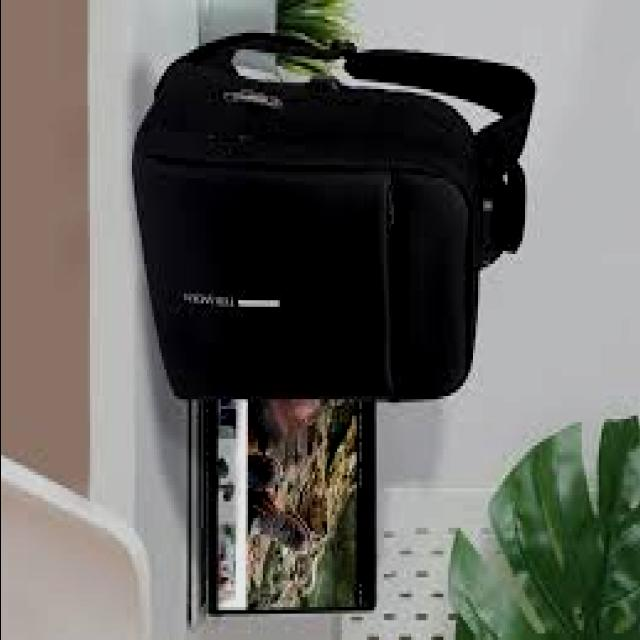backpack: (134, 31, 540, 404)
